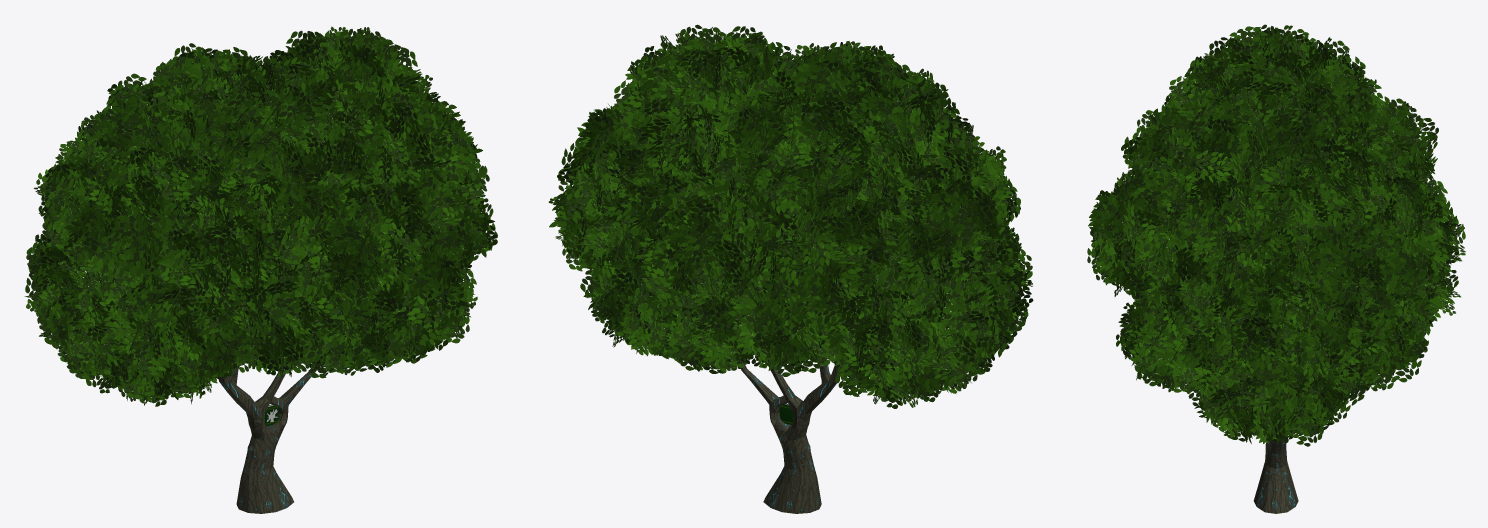
The model's file is TesteTreeWithGlimorio.fbx.
The picture shows the model from 3 angles, left to right: view 1: azimuth 30°, elevation 25°; view 2: azimuth 150°, elevation 25°; view 3: azimuth 270°, elevation 25°; orthographic projection. The views are drawn at different scales.
Parts seen in each view (by area): view 1: Tree; view 2: Tree; view 3: Tree.
Part boxes in pixels (x1,y1,x2,y2): Tree: [24, 26, 497, 513]; Tree: [548, 24, 1033, 513]; Tree: [1087, 24, 1465, 513].
Size of the model in its own units: 433 by 429 by 349.
